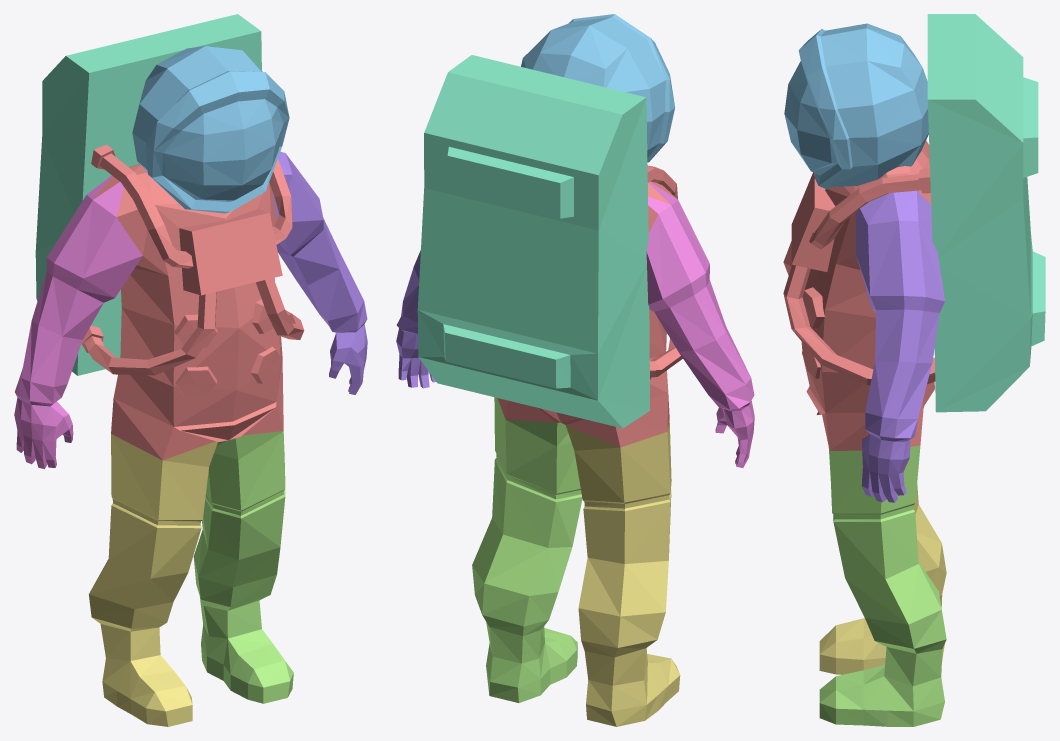
Rendered from astronaut_r.glb.
The picture shows the model from 3 angles, left to right: view 1: azimuth 30°, elevation 25°; view 2: azimuth 150°, elevation 25°; view 3: azimuth 270°, elevation 25°; orthographic projection.
Parts seen in each view (by area): view 1: Part_0, Part_1, Part_4, Part_3, Part_2, Part_6, Part_5; view 2: Part_3, Part_1, Part_2, Part_6, Part_4, Part_0, Part_5; view 3: Part_3, Part_2, Part_0, Part_5, Part_4, Part_1.
Part boxes in pixels (x1=…): Part_0: x1=81, y1=144, x2=304, y2=460; Part_1: x1=88, y1=434, x2=217, y2=726; Part_4: x1=132, y1=46, x2=289, y2=213; Part_3: x1=35, y1=14, x2=261, y2=375; Part_2: x1=193, y1=431, x2=293, y2=703; Part_6: x1=14, y1=175, x2=142, y2=468; Part_5: x1=272, y1=151, x2=367, y2=394; Part_3: x1=417, y1=55, x2=650, y2=428; Part_1: x1=565, y1=420, x2=680, y2=726; Part_2: x1=472, y1=397, x2=582, y2=702; Part_6: x1=646, y1=182, x2=754, y2=467; Part_4: x1=521, y1=14, x2=675, y2=162; Part_0: x1=497, y1=165, x2=682, y2=447; Part_5: x1=396, y1=250, x2=435, y2=388; Part_3: x1=927, y1=14, x2=1045, y2=412; Part_2: x1=819, y1=445, x2=946, y2=726; Part_0: x1=783, y1=140, x2=935, y2=450; Part_5: x1=855, y1=190, x2=945, y2=502; Part_4: x1=784, y1=23, x2=928, y2=189; Part_1: x1=819, y1=484, x2=946, y2=674.
Bounding box in the file's own units: 1.11 × 2 × 0.7186.
